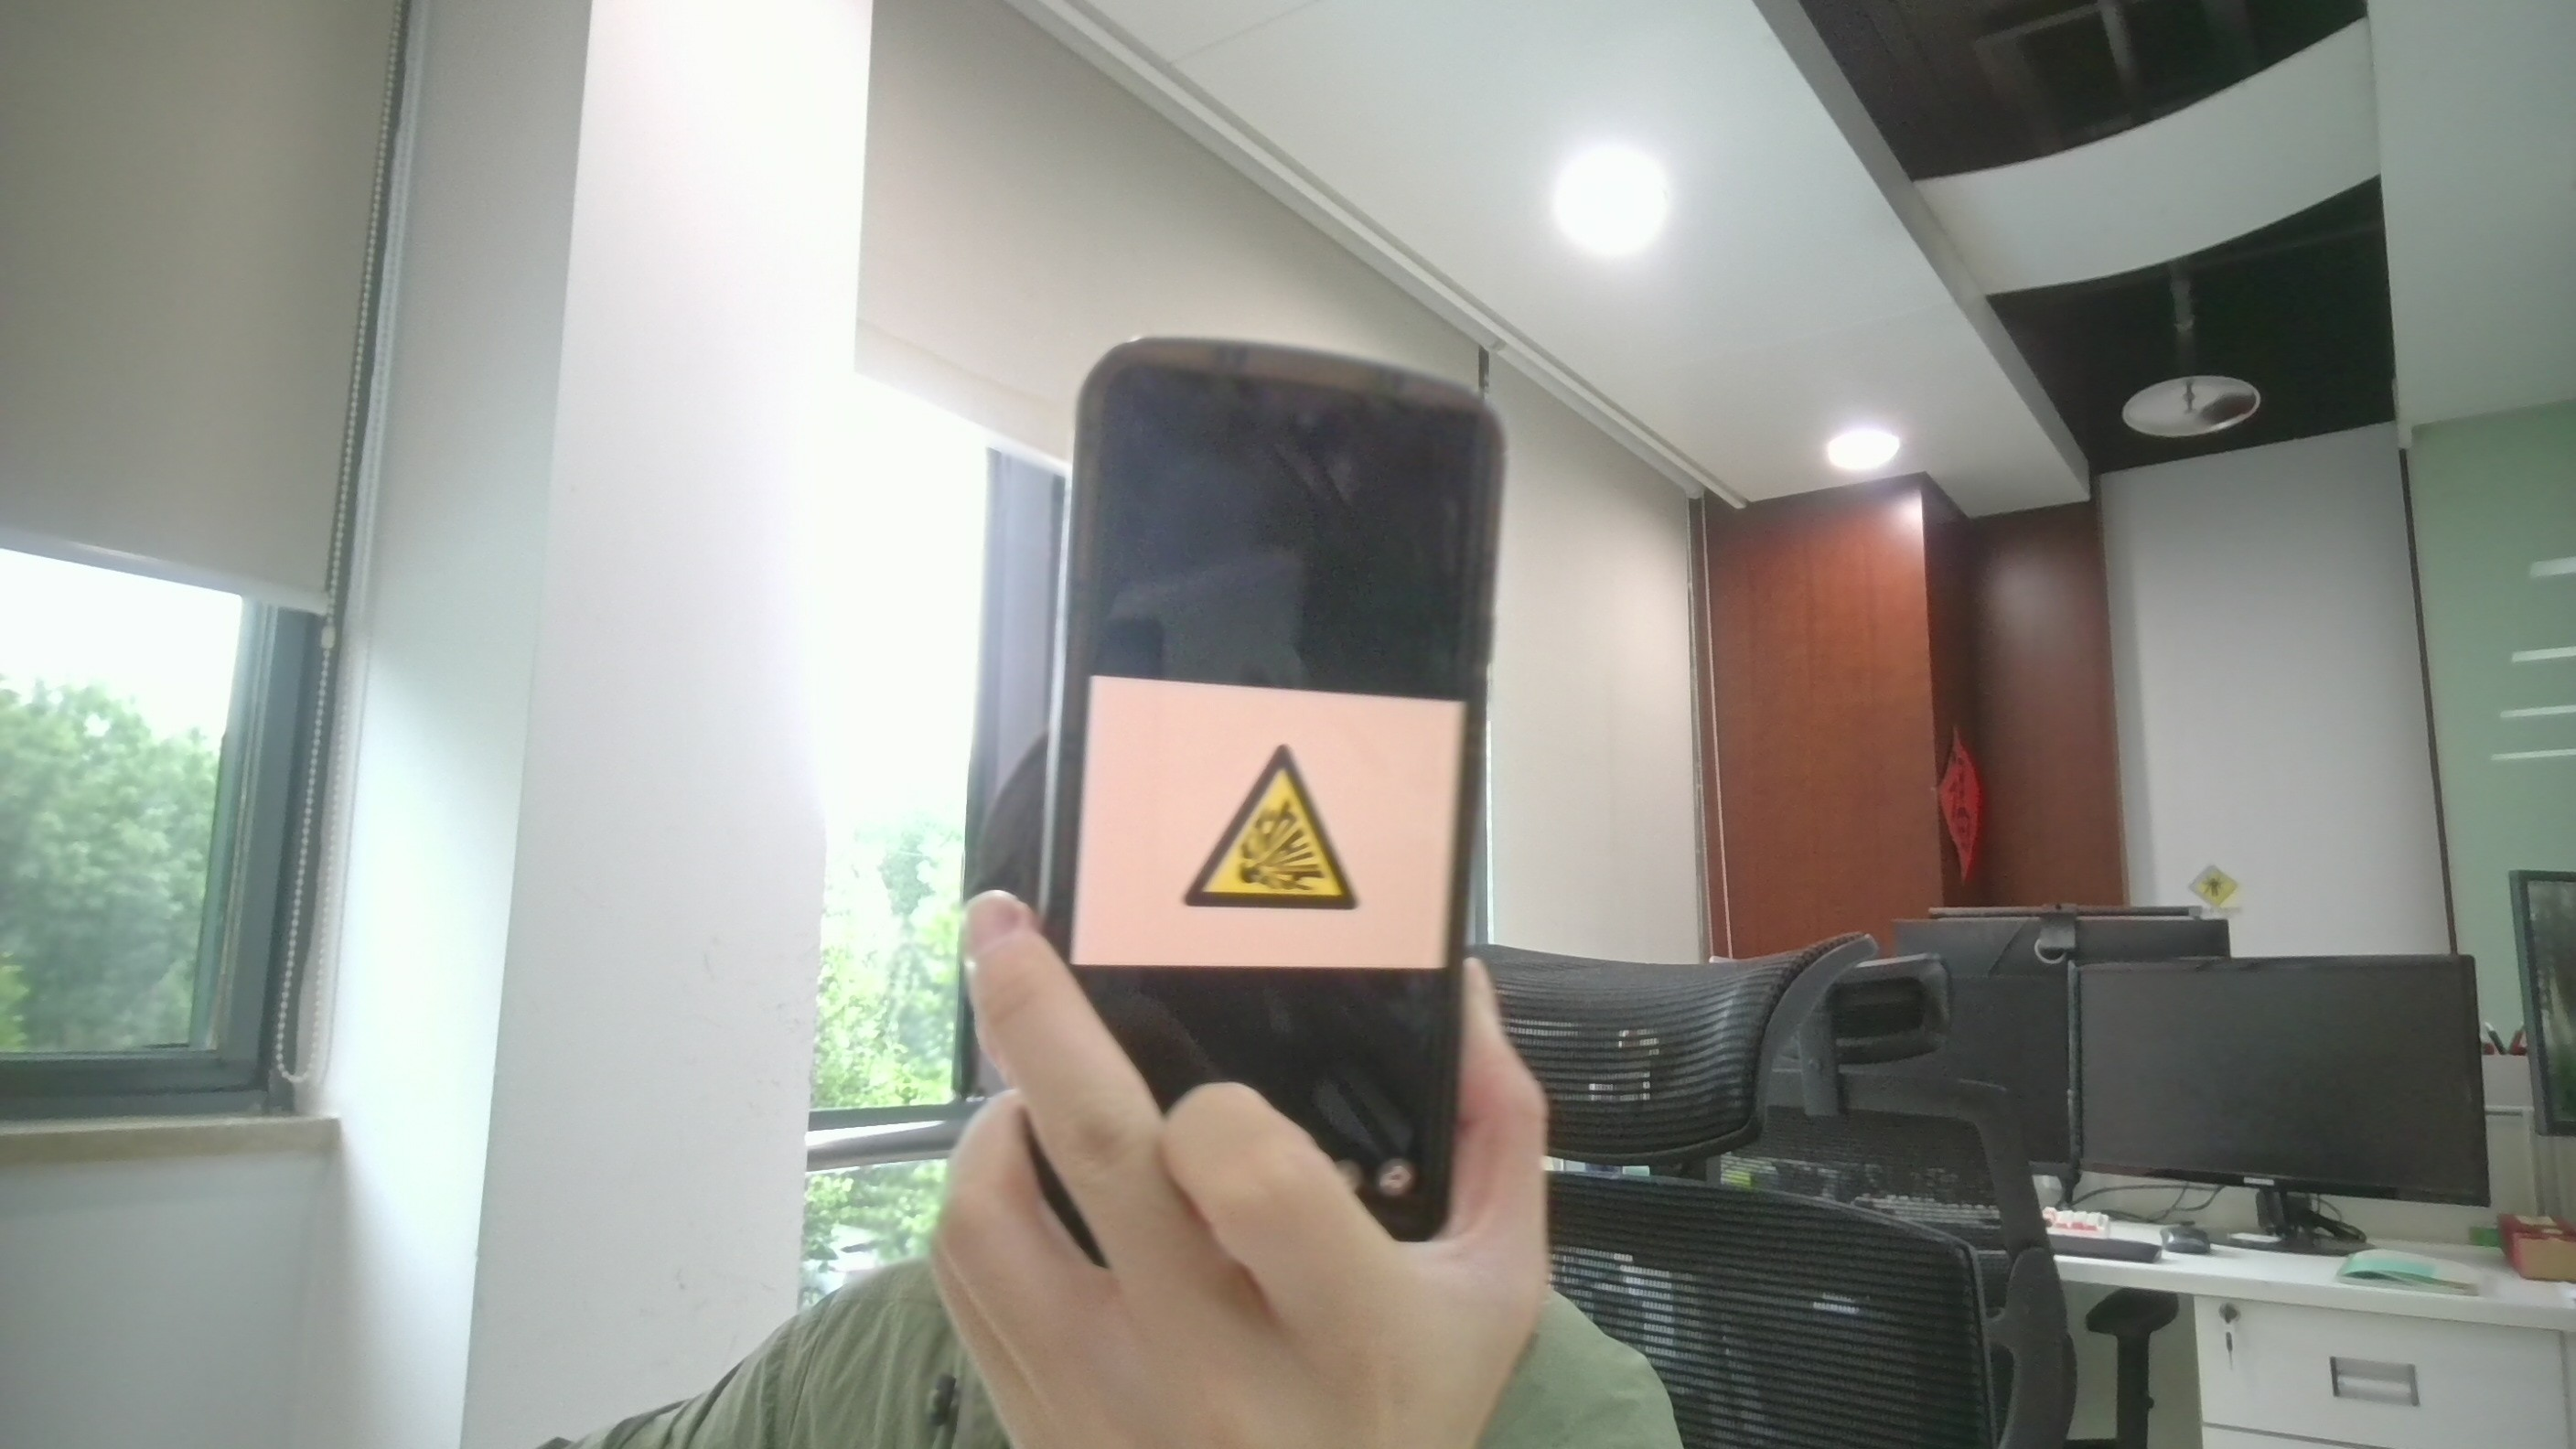others: (1185, 736, 1364, 925)
